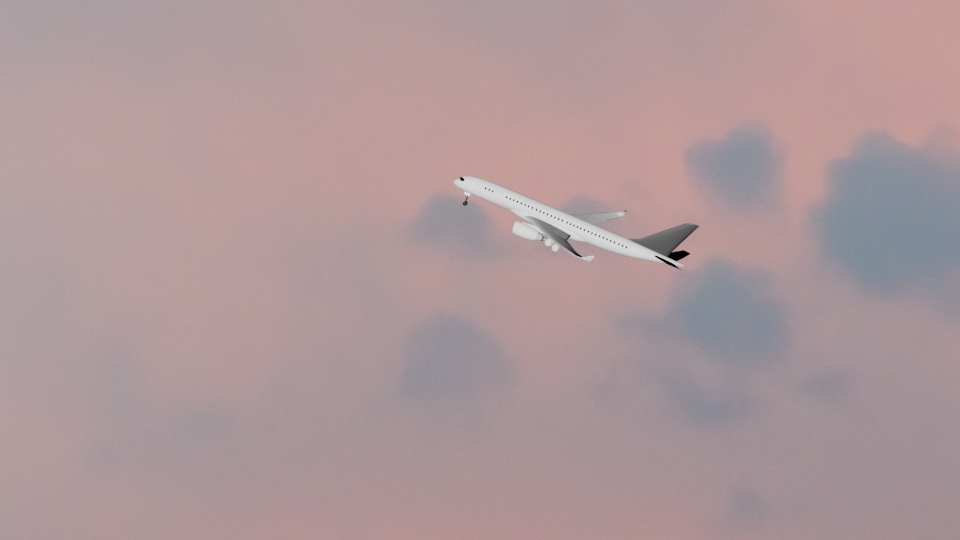plane: (452, 174, 700, 272)
